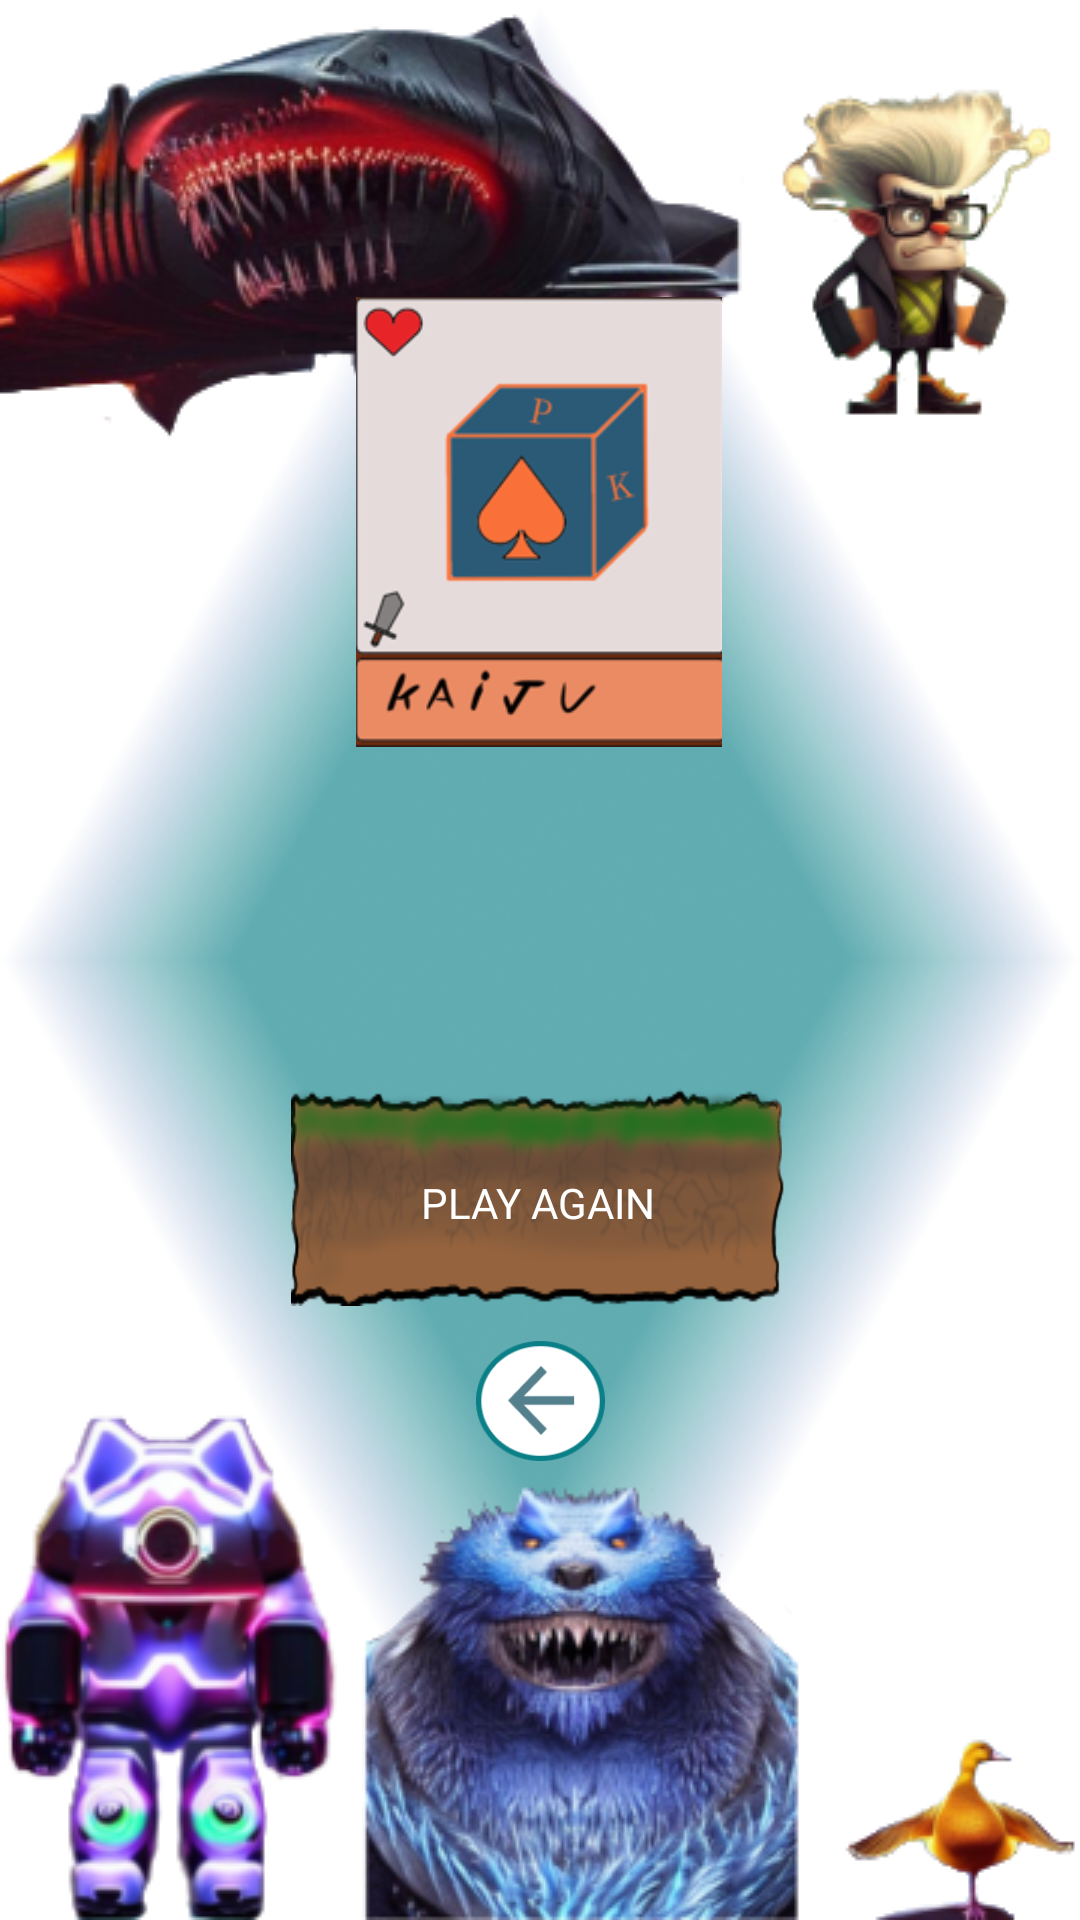

Icons on this 1080w x 1920h Android screen, each with its box as bbox(x1, y1, x2, y2):
backarrow: bbox(476, 1341, 605, 1461)
